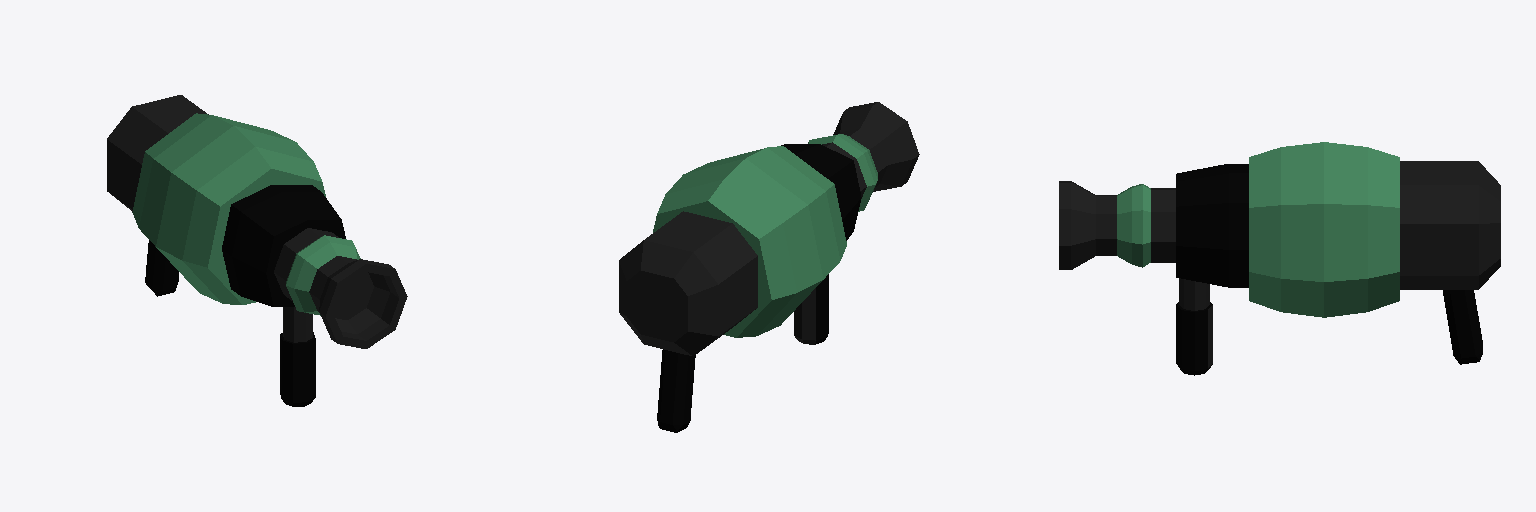
File: seed_gun.obj
3 renders of one model, left to right at view 1: azimuth 30°, elevation 25°; view 2: azimuth 150°, elevation 25°; view 3: azimuth 270°, elevation 25°, orthographic.
Parts seen in each view (by area): view 1: Cylinder, Cylinder.001, Cube, Cube.001, Cylinder.002, Cube.002; view 2: Cylinder, Cube.001, Cylinder.001, Cube.002, Cube, Cylinder.002; view 3: Cylinder, Cube.001, Cylinder.001, Cube, Cylinder.002, Cube.002.
Boxes of the visible parts, <box> form: Cylinder: <box>132,113,325,304</box>; Cylinder.001: <box>274,228,407,348</box>; Cube: <box>222,185,345,306</box>; Cube.001: <box>107,95,208,211</box>; Cylinder.002: <box>280,307,315,406</box>; Cube.002: <box>145,240,178,296</box>; Cylinder: <box>653,146,846,337</box>; Cube.001: <box>619,211,757,356</box>; Cylinder.001: <box>808,102,919,211</box>; Cube.002: <box>657,349,695,432</box>; Cube: <box>781,144,861,240</box>; Cylinder.002: <box>794,274,828,344</box>; Cylinder: <box>1249,142,1399,317</box>; Cube.001: <box>1400,161,1500,289</box>; Cylinder.001: <box>1059,181,1175,269</box>; Cube: <box>1176,164,1248,287</box>; Cylinder.002: <box>1176,278,1212,375</box>; Cube.002: <box>1443,290,1482,364</box>.
Size of the model in its own units: 1.46 by 2.04 by 3.59.